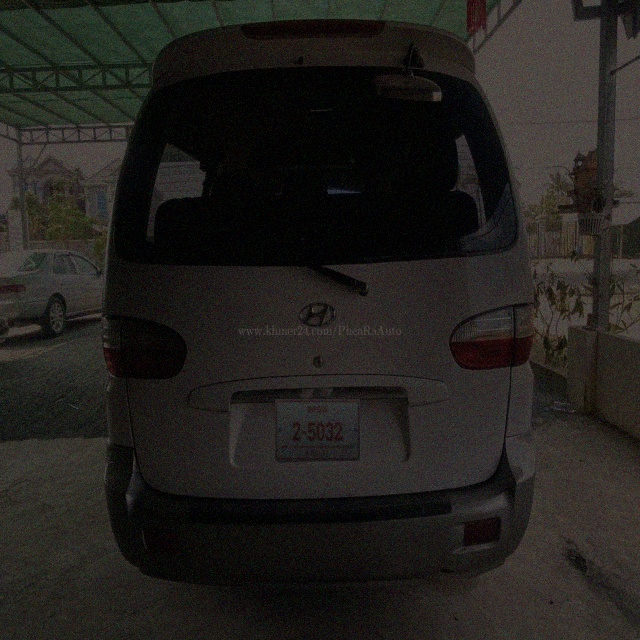Plate Number: (275, 399, 361, 462)
